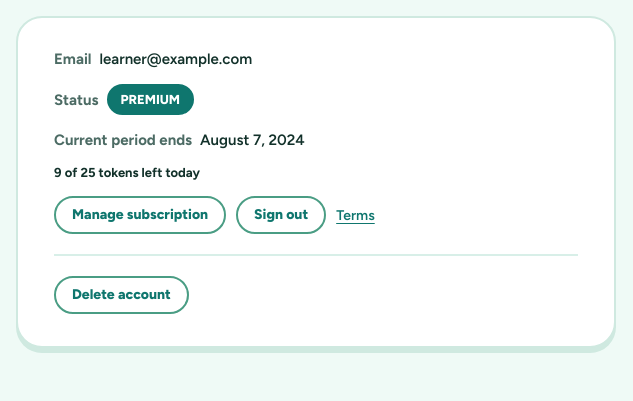
AccountPageComponent › a failed portal request shows a message and keeps the learner on the page
Step 1. Click the button "Manage subscription" → (140, 215), box 54,196 -> 226,234
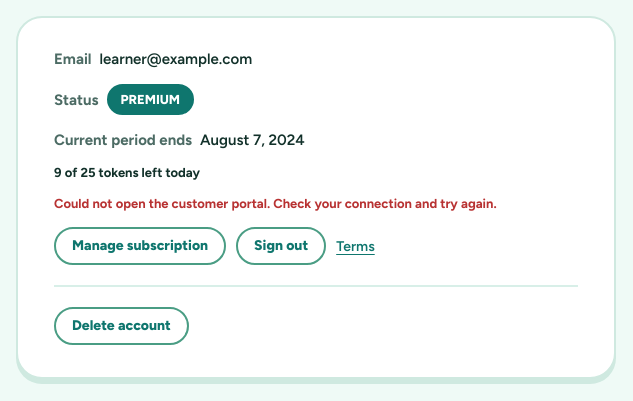
expect the text "Could not open the customer portal" is shown: met, box 54,196 -> 497,211
